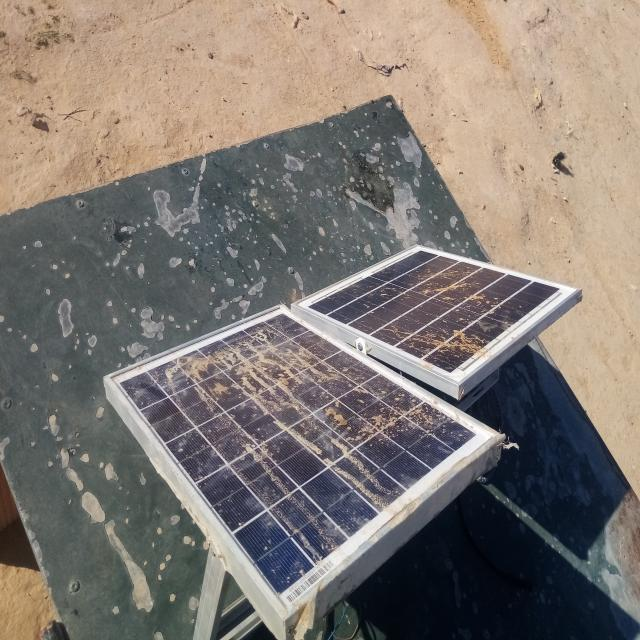faulty: (105, 305, 502, 622), (293, 244, 579, 384)
